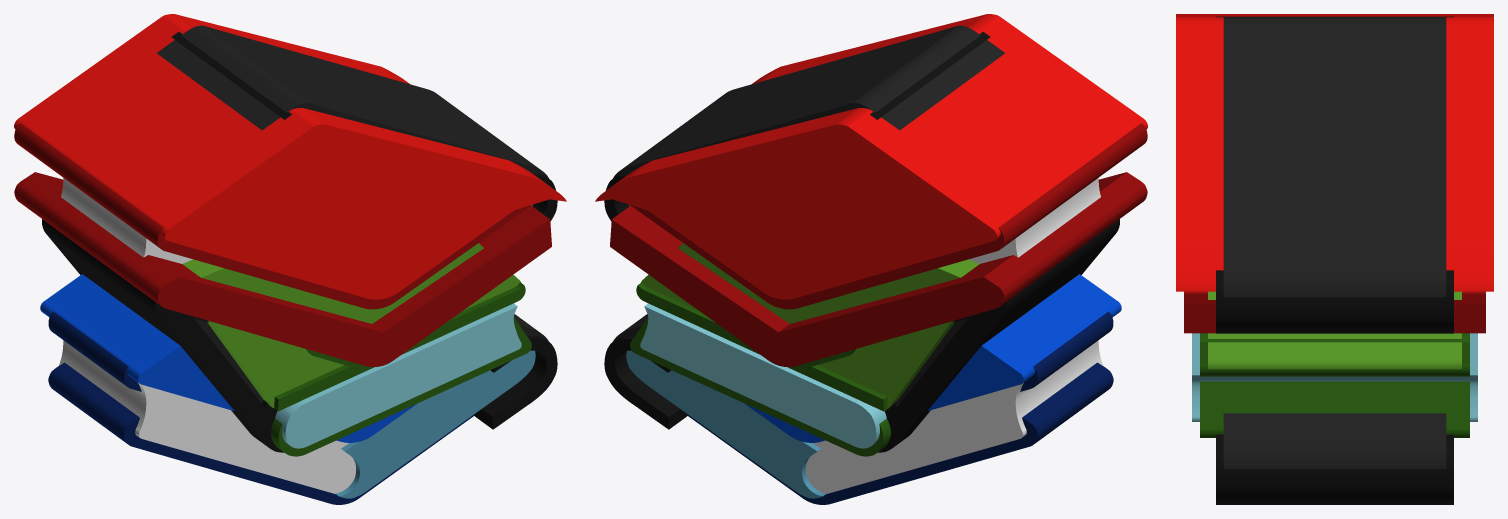
3 views of the same model, side by side, from view 1: azimuth 30°, elevation 25°; view 2: azimuth 150°, elevation 25°; view 3: azimuth 270°, elevation 25° (orthographic). The views are drawn at different scales.
Visible parts, largest first — view 1: U+1F4DA_layer10_obj00, U+1F4DA_layer09_obj01, U+1F4DA_layer04_obj00, U+1F4DA_layer08_obj00, U+1F4DA_layer01_obj00, U+1F4DA_layer03_obj00, U+1F4DA_layer06_obj00, U+1F4DA_layer02_obj00, U+1F4DA_layer05_obj03, U+1F4DA_layer09_obj00, U+1F4DA_layer00_obj00, U+1F4DA_layer07_obj01 (+6 smaller); view 2: U+1F4DA_layer10_obj00, U+1F4DA_layer09_obj01, U+1F4DA_layer04_obj00, U+1F4DA_layer08_obj00, U+1F4DA_layer01_obj00, U+1F4DA_layer03_obj00, U+1F4DA_layer06_obj00, U+1F4DA_layer02_obj00, U+1F4DA_layer05_obj03, U+1F4DA_layer09_obj00, U+1F4DA_layer00_obj00, U+1F4DA_layer07_obj01 (+6 smaller); view 3: U+1F4DA_layer04_obj00, U+1F4DA_layer10_obj00, U+1F4DA_layer04_obj01, U+1F4DA_layer07_obj00, U+1F4DA_layer05_obj05, U+1F4DA_layer05_obj02, U+1F4DA_layer06_obj00, U+1F4DA_layer08_obj00, U+1F4DA_layer09_obj01, U+1F4DA_layer07_obj01, U+1F4DA_layer07_obj02.
Part boxes in pixels (x1,y1,x2,y2): U+1F4DA_layer10_obj00: [14, 14, 566, 299]; U+1F4DA_layer09_obj01: [14, 172, 551, 366]; U+1F4DA_layer04_obj00: [157, 25, 548, 178]; U+1F4DA_layer08_obj00: [275, 303, 521, 448]; U+1F4DA_layer01_obj00: [59, 340, 356, 493]; U+1F4DA_layer03_obj00: [40, 274, 417, 442]; U+1F4DA_layer06_obj00: [182, 243, 520, 408]; U+1F4DA_layer02_obj00: [335, 350, 535, 498]; U+1F4DA_layer05_obj03: [42, 219, 283, 452]; U+1F4DA_layer09_obj00: [14, 123, 531, 309]; U+1F4DA_layer00_obj00: [48, 362, 474, 504]; U+1F4DA_layer07_obj01: [273, 282, 525, 411]; U+1F4DA_layer10_obj00: [595, 14, 1147, 299]; U+1F4DA_layer09_obj01: [610, 172, 1147, 366]; U+1F4DA_layer04_obj00: [613, 25, 1004, 178]; U+1F4DA_layer08_obj00: [640, 303, 886, 448]; U+1F4DA_layer01_obj00: [805, 340, 1102, 493]; U+1F4DA_layer03_obj00: [744, 274, 1121, 442]; U+1F4DA_layer06_obj00: [641, 243, 979, 408]; U+1F4DA_layer02_obj00: [626, 350, 826, 498]; U+1F4DA_layer05_obj03: [878, 219, 1119, 452]; U+1F4DA_layer09_obj00: [630, 123, 1147, 309]; U+1F4DA_layer00_obj00: [687, 362, 1113, 504]; U+1F4DA_layer07_obj01: [636, 282, 888, 411]; U+1F4DA_layer04_obj00: [1223, 17, 1446, 297]; U+1F4DA_layer10_obj00: [1176, 14, 1493, 291]; U+1F4DA_layer04_obj01: [1223, 413, 1446, 468]; U+1F4DA_layer07_obj00: [1200, 381, 1469, 437]; U+1F4DA_layer05_obj05: [1216, 270, 1453, 333]; U+1F4DA_layer05_obj02: [1216, 434, 1453, 504]; U+1F4DA_layer06_obj00: [1208, 291, 1461, 369]; U+1F4DA_layer08_obj00: [1192, 333, 1477, 421]; U+1F4DA_layer09_obj01: [1184, 291, 1485, 333]; U+1F4DA_layer07_obj01: [1200, 342, 1469, 376]; U+1F4DA_layer07_obj02: [1200, 333, 1469, 342].
Bounding box in the file's own units: 0.3174 × 0.3114 × 0.2.
